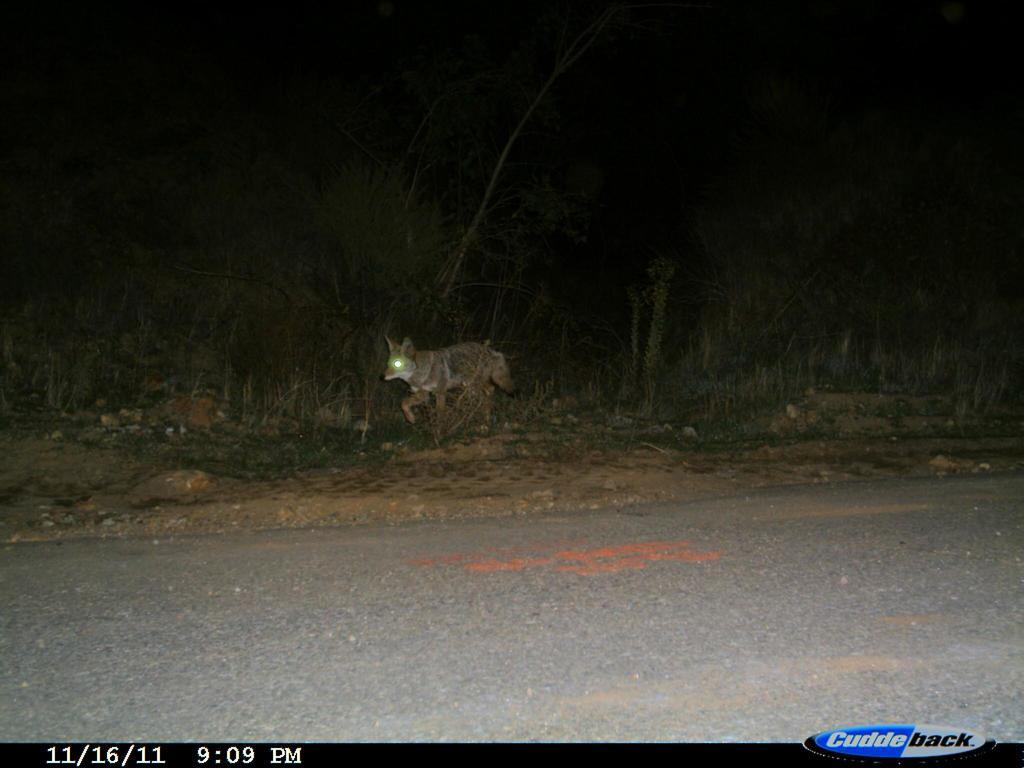coyote: (382, 324, 525, 449)
